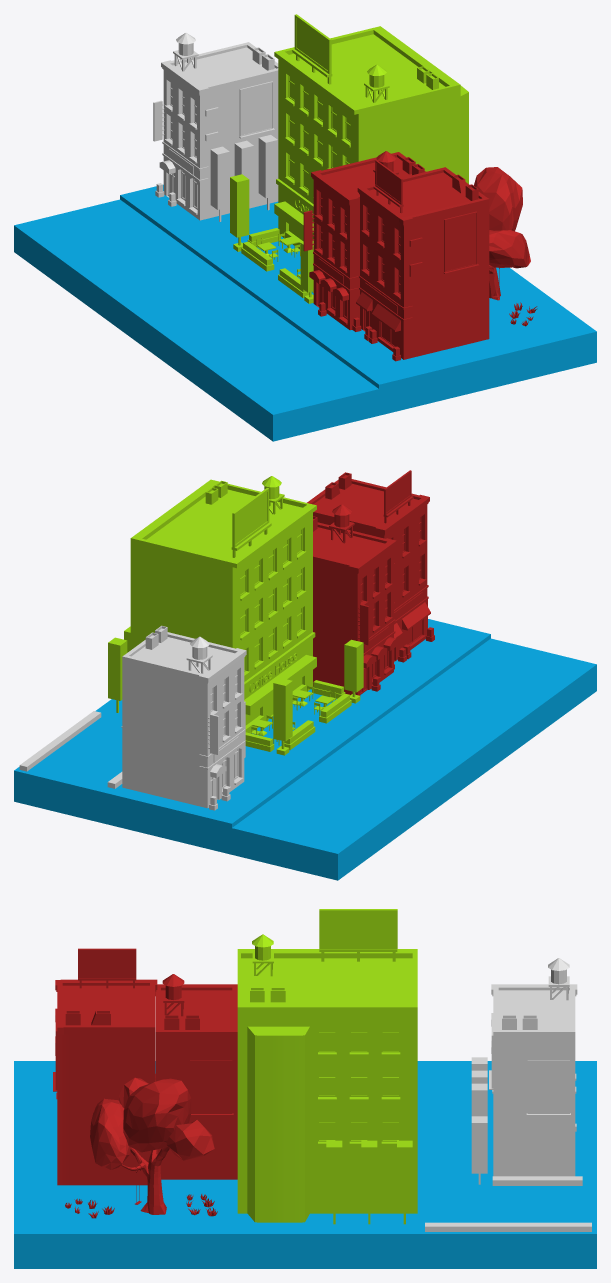
File: sscene.FBX
3 views of the same model, one above another, from view 1: azimuth 30°, elevation 25°; view 2: azimuth 150°, elevation 25°; view 3: azimuth 270°, elevation 25° (orthographic). The views are drawn at different scales.
Parts seen in each view (by area): view 1: Box002, Boutiques, Coffe House, Box001, tree; view 2: Box002, Coffe House, Boutiques, Box001; view 3: Box002, Coffe House, Boutiques, Box001, tree.
Boxes of the visible parts, left/top/right/bottom form: Box002: left=14, top=184, right=596, bottom=441; Boutiques: left=303, top=151, right=489, bottom=361; Coffe House: left=230, top=14, right=468, bottom=303; Box001: left=153, top=33, right=278, bottom=221; tree: left=474, top=167, right=537, bottom=326; Box002: left=14, top=619, right=596, bottom=880; Coffe House: left=108, top=476, right=363, bottom=755; Boutiques: left=307, top=470, right=434, bottom=695; Box001: left=19, top=625, right=246, bottom=810; Box002: left=14, top=1061, right=596, bottom=1268; Coffe House: left=237, top=909, right=417, bottom=1224; Boutiques: left=53, top=948, right=237, bottom=1185; Box001: left=425, top=958, right=591, bottom=1231; tree: left=65, top=1077, right=217, bottom=1218.
Size of the model in its own units: 156 by 118 by 217.
